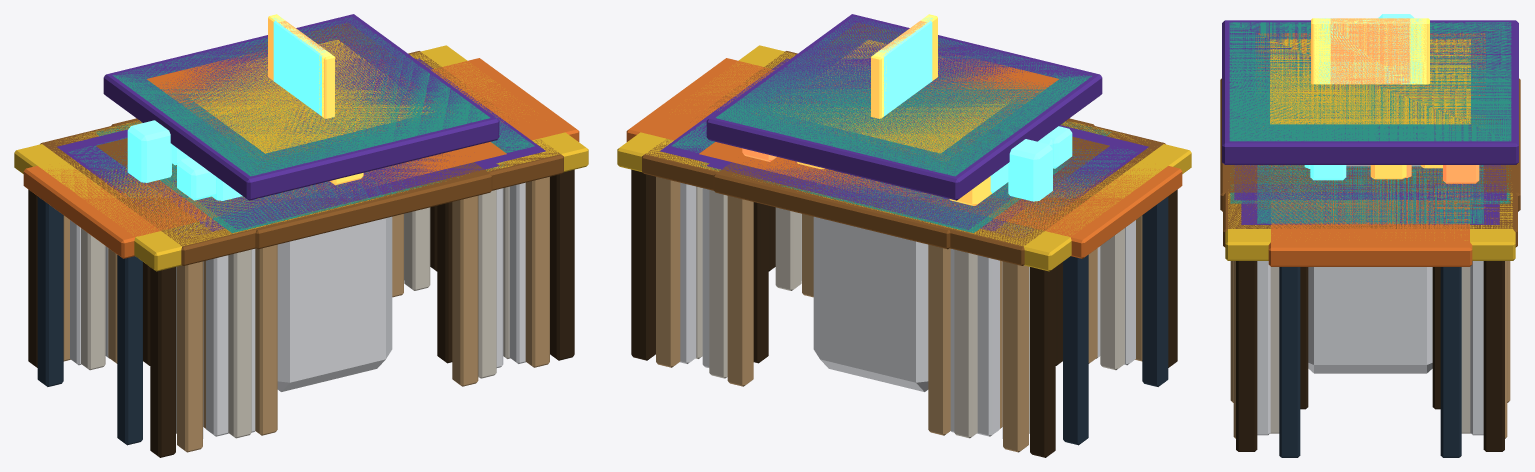
The model's file is flagship_props_023.glb.
The picture shows the model from 3 angles, left to right: view 1: azimuth 30°, elevation 25°; view 2: azimuth 150°, elevation 25°; view 3: azimuth 270°, elevation 25°; orthographic projection.
Parts seen in each view (by area): view 1: Prop_BBIsle_Sundial_18, Prop_BBIsle_Table_02, Prop_BBIsle_Table_08, Prop_BBIsle_Sundial_16, Prop_BBIsle_Table_00, Prop_BBIsle_Table_10, Prop_BBIsle_Table_04, Prop_BBIsle_Sundial_15, Prop_BBIsle_Table_06, Prop_BBIsle_Table_09, Prop_BBIsle_Sundial_19, Prop_BBIsle_Table_01 (+5 smaller); view 2: Prop_BBIsle_Sundial_18, Prop_BBIsle_Table_02, Prop_BBIsle_Sundial_16, Prop_BBIsle_Table_08, Prop_BBIsle_Table_00, Prop_BBIsle_Table_10, Prop_BBIsle_Table_04, Prop_BBIsle_Table_06, Prop_BBIsle_Table_09, Prop_BBIsle_Sundial_19, Prop_BBIsle_Table_11, Prop_BBIsle_Table_01 (+5 smaller); view 3: Prop_BBIsle_Sundial_18, Prop_BBIsle_Sundial_16, Prop_BBIsle_Table_02, Prop_BBIsle_Sundial_15, Prop_BBIsle_Table_09, Prop_BBIsle_Table_08, Prop_BBIsle_Table_06, Prop_BBIsle_Table_10, Prop_BBIsle_Table_01, Prop_BBIsle_Table_00, Prop_BBIsle_Table_03, Prop_BBIsle_Sundial_19 (+3 smaller).
Boxes of the visible parts, left/top/right/bottom form: Prop_BBIsle_Sundial_18: left=103, top=14, right=499, bottom=391; Prop_BBIsle_Table_02: left=23, top=58, right=579, bottom=445; Prop_BBIsle_Table_08: left=14, top=45, right=588, bottom=457; Prop_BBIsle_Sundial_16: left=112, top=15, right=490, bottom=176; Prop_BBIsle_Table_00: left=40, top=51, right=563, bottom=452; Prop_BBIsle_Table_10: left=111, top=118, right=492, bottom=435; Prop_BBIsle_Table_04: left=96, top=122, right=507, bottom=438; Prop_BBIsle_Sundial_15: left=183, top=20, right=434, bottom=153; Prop_BBIsle_Table_06: left=57, top=58, right=545, bottom=438; Prop_BBIsle_Table_09: left=69, top=103, right=534, bottom=433; Prop_BBIsle_Sundial_19: left=147, top=20, right=450, bottom=159; Prop_BBIsle_Table_01: left=168, top=154, right=499, bottom=432; Prop_BBIsle_Sundial_18: left=706, top=14, right=1102, bottom=391; Prop_BBIsle_Table_02: left=626, top=58, right=1182, bottom=445; Prop_BBIsle_Sundial_16: left=716, top=15, right=1091, bottom=176; Prop_BBIsle_Table_08: left=617, top=45, right=1191, bottom=457; Prop_BBIsle_Table_00: left=642, top=51, right=1165, bottom=452; Prop_BBIsle_Table_10: left=713, top=118, right=1094, bottom=435; Prop_BBIsle_Table_04: left=701, top=121, right=1111, bottom=438; Prop_BBIsle_Table_06: left=660, top=58, right=1148, bottom=438; Prop_BBIsle_Table_09: left=671, top=66, right=1136, bottom=433; Prop_BBIsle_Sundial_19: left=753, top=20, right=1058, bottom=160; Prop_BBIsle_Table_11: left=702, top=175, right=1100, bottom=436; Prop_BBIsle_Table_01: left=706, top=159, right=1013, bottom=432; Prop_BBIsle_Sundial_18: left=1222, top=18, right=1518, bottom=373; Prop_BBIsle_Sundial_16: left=1229, top=18, right=1511, bottom=141; Prop_BBIsle_Table_02: left=1268, top=14, right=1472, bottom=457; Prop_BBIsle_Sundial_15: left=1270, top=18, right=1470, bottom=124; Prop_BBIsle_Table_09: left=1257, top=165, right=1483, bottom=433; Prop_BBIsle_Table_08: left=1225, top=165, right=1515, bottom=451; Prop_BBIsle_Table_06: left=1241, top=165, right=1499, bottom=435; Prop_BBIsle_Table_10: left=1220, top=78, right=1520, bottom=402; Prop_BBIsle_Table_01: left=1234, top=165, right=1506, bottom=200; Prop_BBIsle_Table_00: left=1223, top=184, right=1517, bottom=438; Prop_BBIsle_Table_03: left=1300, top=165, right=1452, bottom=409; Prop_BBIsle_Sundial_19: left=1255, top=18, right=1485, bottom=130.
Bounding box in the file's own units: 1.78 × 1.21 × 0.9958.
